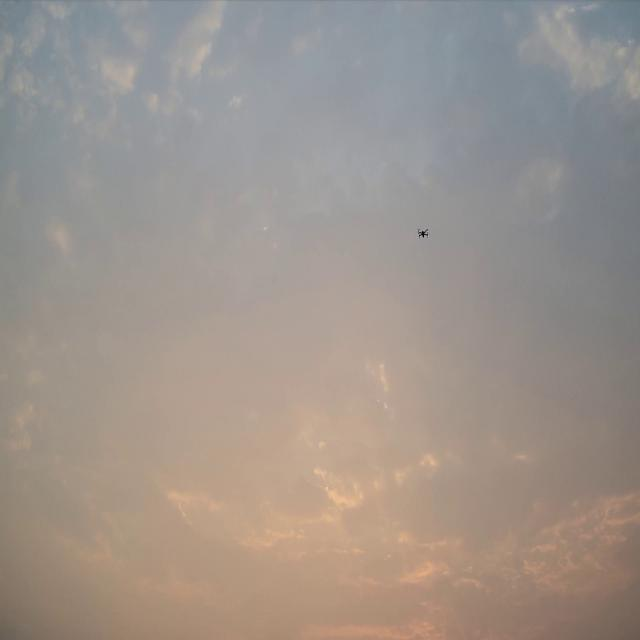UAV: (418, 228, 428, 238)
